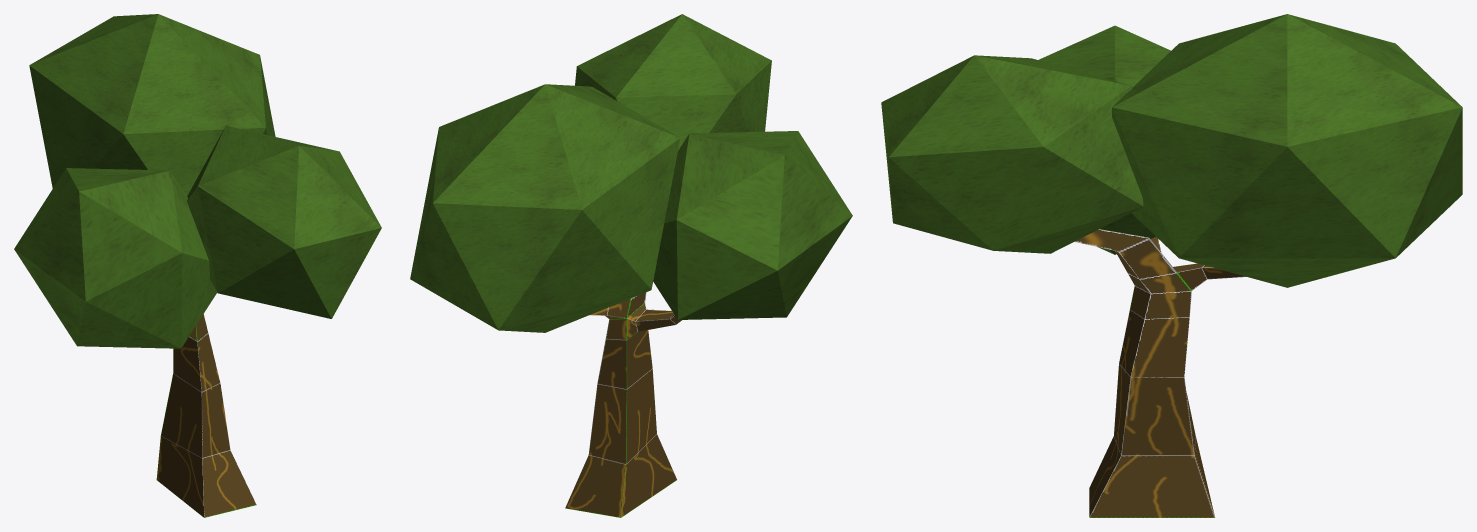
File: Tree Test.FBX
3 renders of one model, left to right at view 1: azimuth 30°, elevation 25°; view 2: azimuth 150°, elevation 25°; view 3: azimuth 270°, elevation 25°, orthographic. The views are drawn at different scales.
Visible parts, largest first — view 1: Leaves02, Leaves, Leaves01, Tree; view 2: Leaves02, Leaves, Leaves01, Tree; view 3: Leaves02, Leaves01, Tree, Leaves.
Part boxes in pixels (<box>): Leaves02: <box>29,14,275,195</box>; Leaves: <box>14,168,217,348</box>; Leaves01: <box>187,125,381,318</box>; Tree: <box>156,314,256,517</box>; Leaves02: <box>410,84,680,332</box>; Leaves: <box>653,131,852,319</box>; Leaves01: <box>575,14,771,150</box>; Tree: <box>565,292,681,517</box>; Leaves02: <box>1112,14,1462,287</box>; Leaves01: <box>881,55,1143,253</box>; Tree: <box>1074,229,1246,517</box>; Leaves: <box>1038,25,1170,254</box>.
Size of the model in its own units: 130 by 189 by 200.
2 materials, 2 textured.
